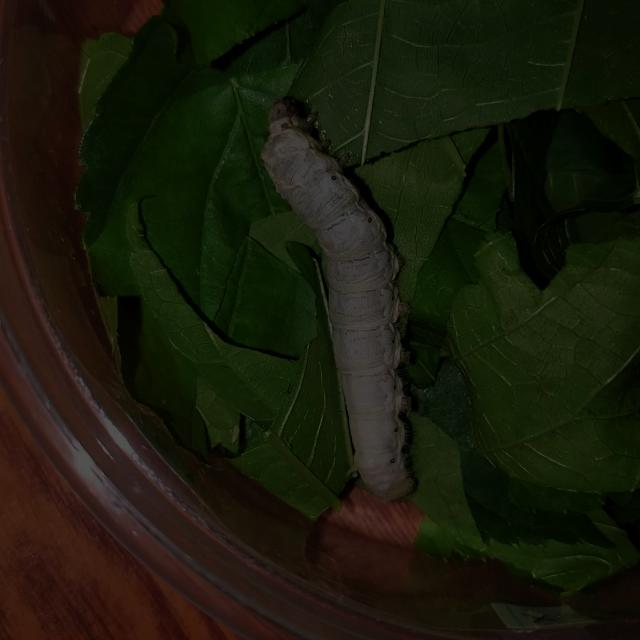Healthy: (256, 93, 444, 506)
